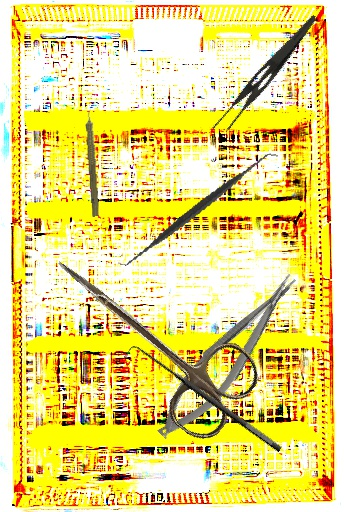Dressing Forceps: (209, 4, 319, 142)
Handpiece: (82, 102, 104, 217)
Hook Surgical: (123, 339, 284, 464)
Iris Scissors: (24, 226, 269, 449)
Needle Holder: (143, 266, 314, 449)
Spatula Surgical: (117, 126, 279, 293)
